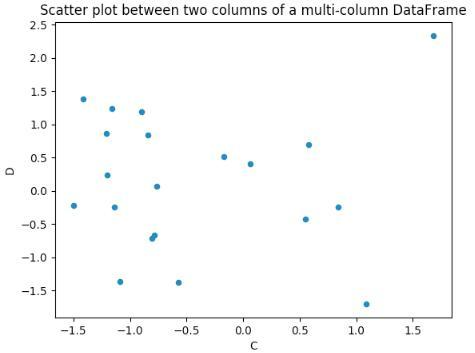axis: (50, 314, 454, 323), (50, 20, 60, 322)
point: (64, 198, 84, 215), (358, 296, 375, 313), (99, 169, 118, 184), (108, 200, 125, 216), (113, 273, 128, 288), (218, 150, 235, 163), (298, 212, 315, 225), (244, 158, 259, 172), (301, 137, 316, 151), (142, 129, 156, 143), (151, 181, 165, 194), (332, 201, 345, 215), (428, 30, 442, 43), (144, 234, 159, 246), (99, 129, 115, 140), (147, 229, 163, 240), (136, 106, 149, 119), (106, 103, 119, 115), (173, 277, 187, 288), (78, 95, 90, 104)
